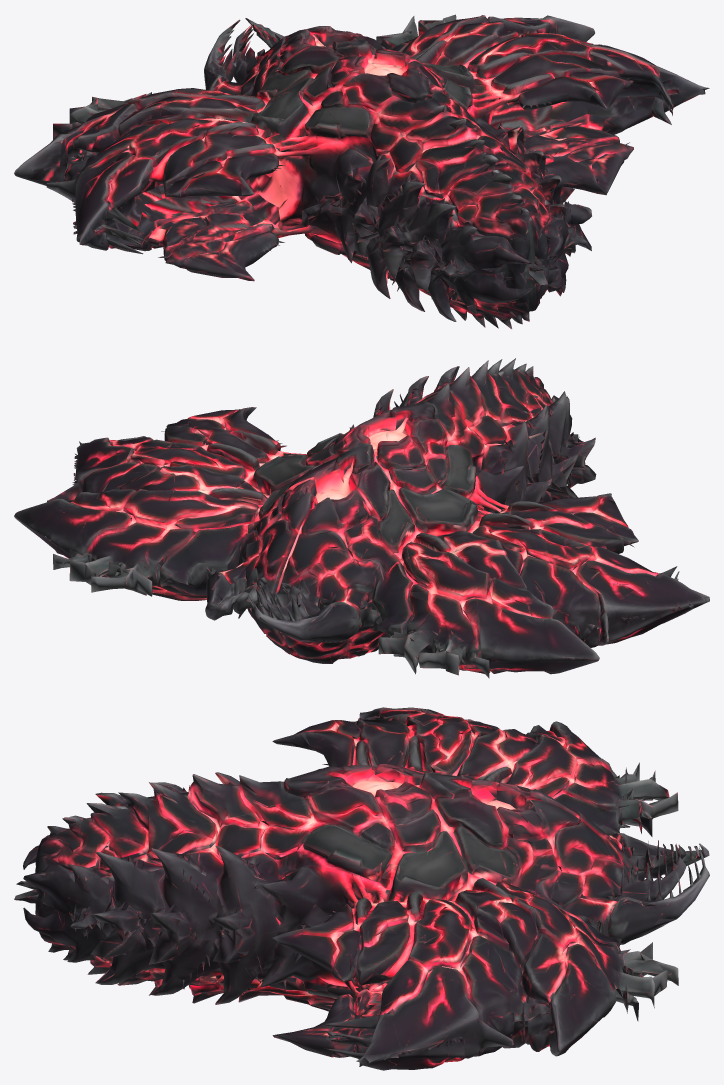
Rendered from vexor-v4.glb.
The picture shows the model from 3 angles, top to bottom: view 1: azimuth 30°, elevation 25°; view 2: azimuth 150°, elevation 25°; view 3: azimuth 270°, elevation 25°; orthographic projection. The views are drawn at different scales.
Visible parts, largest first — view 1: vexor-v4; view 2: vexor-v4; view 3: vexor-v4.
Part boxes in pixels (box(x1,y1,x2,y2)): vexor-v4: box(14, 14, 709, 329); vexor-v4: box(14, 358, 709, 678); vexor-v4: box(14, 707, 709, 1070).
Size of the model in its own units: 1.91 by 0.5904 by 1.61.
Materials: 1 (1 with a texture image).
